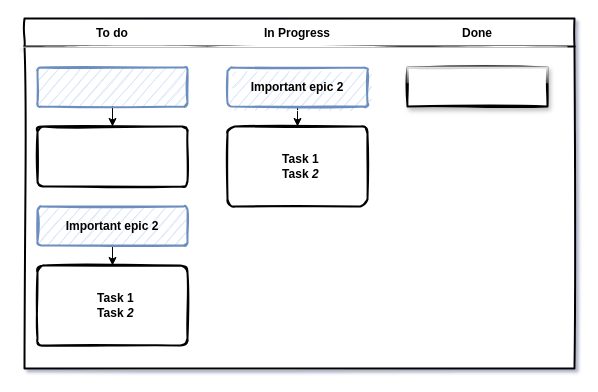
The diagram is 598 pixels wide and 392 high, and some of its shapes have lost their labels. Each missing label, with the centre of its shape:
Moving out: (112,86)
None: (478,88)
Pack boxes Do not forget about cats Say goodbye: (112,156)
